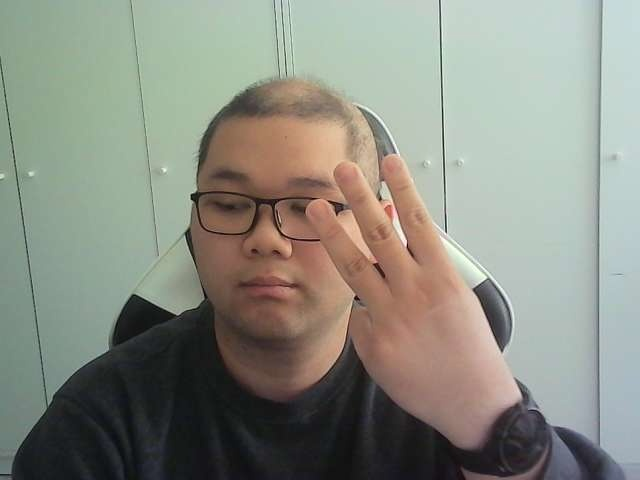Three: (306, 154, 488, 402)
